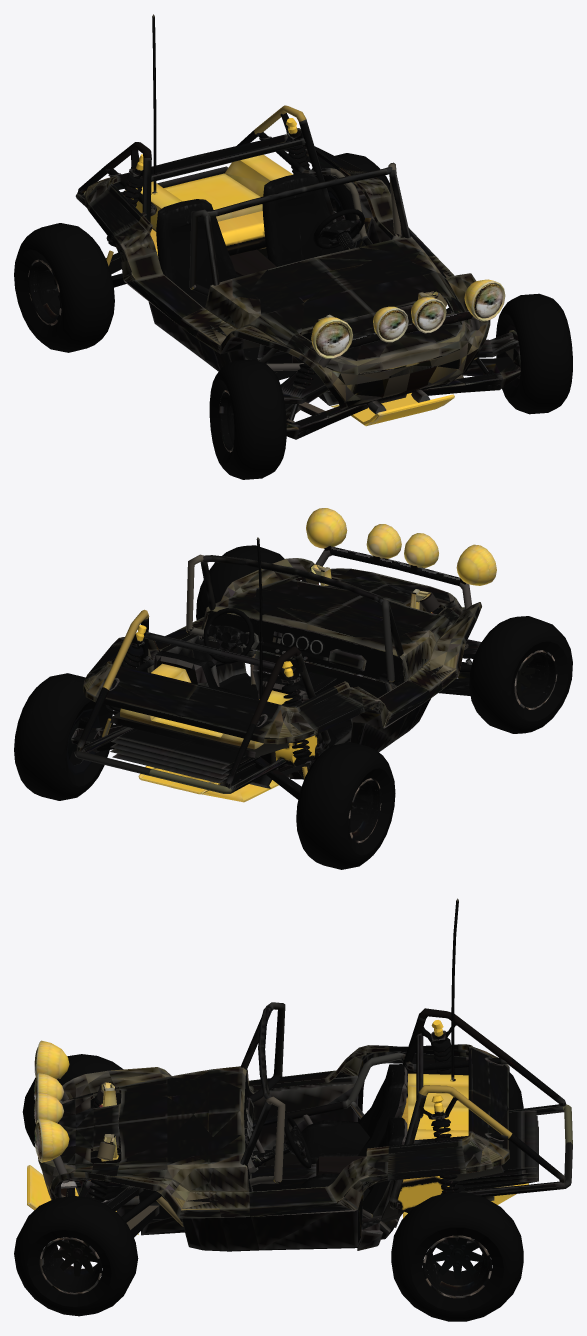
File: kalki.glb
3 renders of one model, top to bottom at view 1: azimuth 30°, elevation 25°; view 2: azimuth 150°, elevation 25°; view 3: azimuth 270°, elevation 25°, orthographic. The views are drawn at different scales.
Parts seen in each view (by area): view 1: node_id99, node_id103, seat_node_id34, tyre_RR_2, tyre_FR_2, tyre_FL_2, node_id77, lamp_lenses, node_id41, node_id111, tyre_RR_0, node_id109 (+9 smaller); view 2: node_id99, node_id103, tyre_RR_2, tyre_RL_2, tyre_FR_2, node_id41, node_id101, node_id88, tyre_FR_0, tyre_FL_2, tyre_FR_1, tyre_RR_0 (+13 smaller); view 3: node_id99, node_id103, tyre_RL_2, tyre_FL_2, seat_node_id34, tyre_RL_0, node_id41, tyre_RL_1, tyre_FL_0, tyre_FL_1, node_id77, tyre_FR_2 (+9 smaller).
Part boxes in pixels (<box>): node_id99: <box>84,134,490,409</box>; node_id103: <box>75,105,430,414</box>; seat_node_id34: <box>156,173,344,307</box>; tyre_RR_2: <box>14,223,114,352</box>; tyre_FR_2: <box>209,359,286,479</box>; tyre_FL_2: <box>496,293,572,414</box>; node_id77: <box>281,291,520,439</box>; lamp_lenses: <box>316,284,502,355</box>; node_id41: <box>311,279,505,358</box>; node_id111: <box>150,211,266,256</box>; tyre_RR_0: <box>28,259,61,325</box>; node_id109: <box>351,393,454,426</box>; node_id99: <box>83,558,481,749</box>; node_id103: <box>74,554,481,802</box>; tyre_RR_2: <box>296,742,395,869</box>; tyre_RL_2: <box>14,673,113,800</box>; tyre_FR_2: <box>469,616,572,733</box>; node_id41: <box>306,508,496,585</box>; node_id101: <box>138,611,404,794</box>; node_id88: <box>71,627,313,799</box>; tyre_FR_0: <box>514,650,557,709</box>; tyre_FL_2: <box>196,545,284,650</box>; tyre_FR_1: <box>511,641,568,721</box>; tyre_RR_0: <box>348,778,381,843</box>; node_id99: <box>38,1044,509,1218</box>; node_id103: <box>54,1002,572,1250</box>; tyre_RL_2: <box>391,1192,523,1321</box>; tyre_FL_2: <box>14,1195,138,1316</box>; seat_node_id34: <box>301,1064,404,1217</box>; tyre_RL_0: <box>423,1235,491,1298</box>; node_id41: <box>36,1040,69,1162</box>; tyre_RL_1: <box>410,1227,504,1311</box>; tyre_FL_0: <box>39,1237,101,1294</box>; tyre_FL_1: <box>27,1230,111,1306</box>; node_id77: <box>58,1082,159,1261</box>; tyre_FR_2: <box>22,1054,123,1147</box>.
Size of the model in its own units: 2.13 by 1.82 by 2.89.
Materials: 37 (37 with a texture image).
